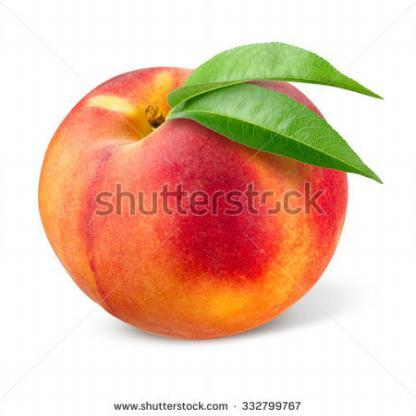Peach leaf: (164, 82, 394, 193), (164, 37, 384, 109)
